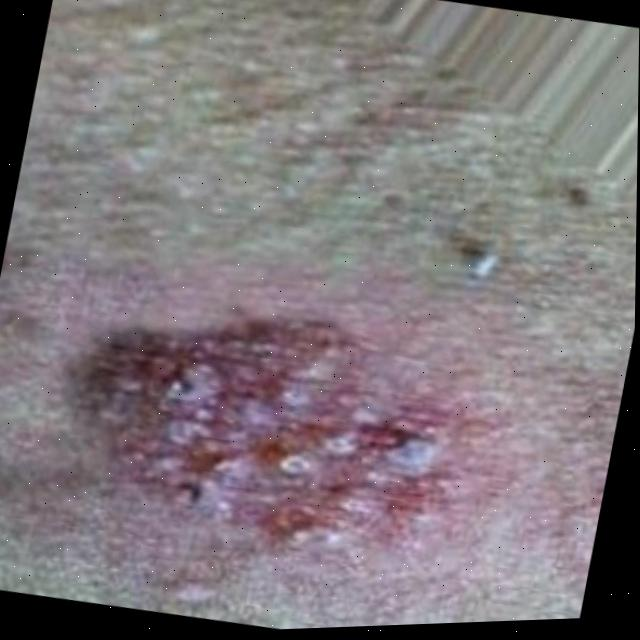Shingles: (62, 288, 478, 595)
